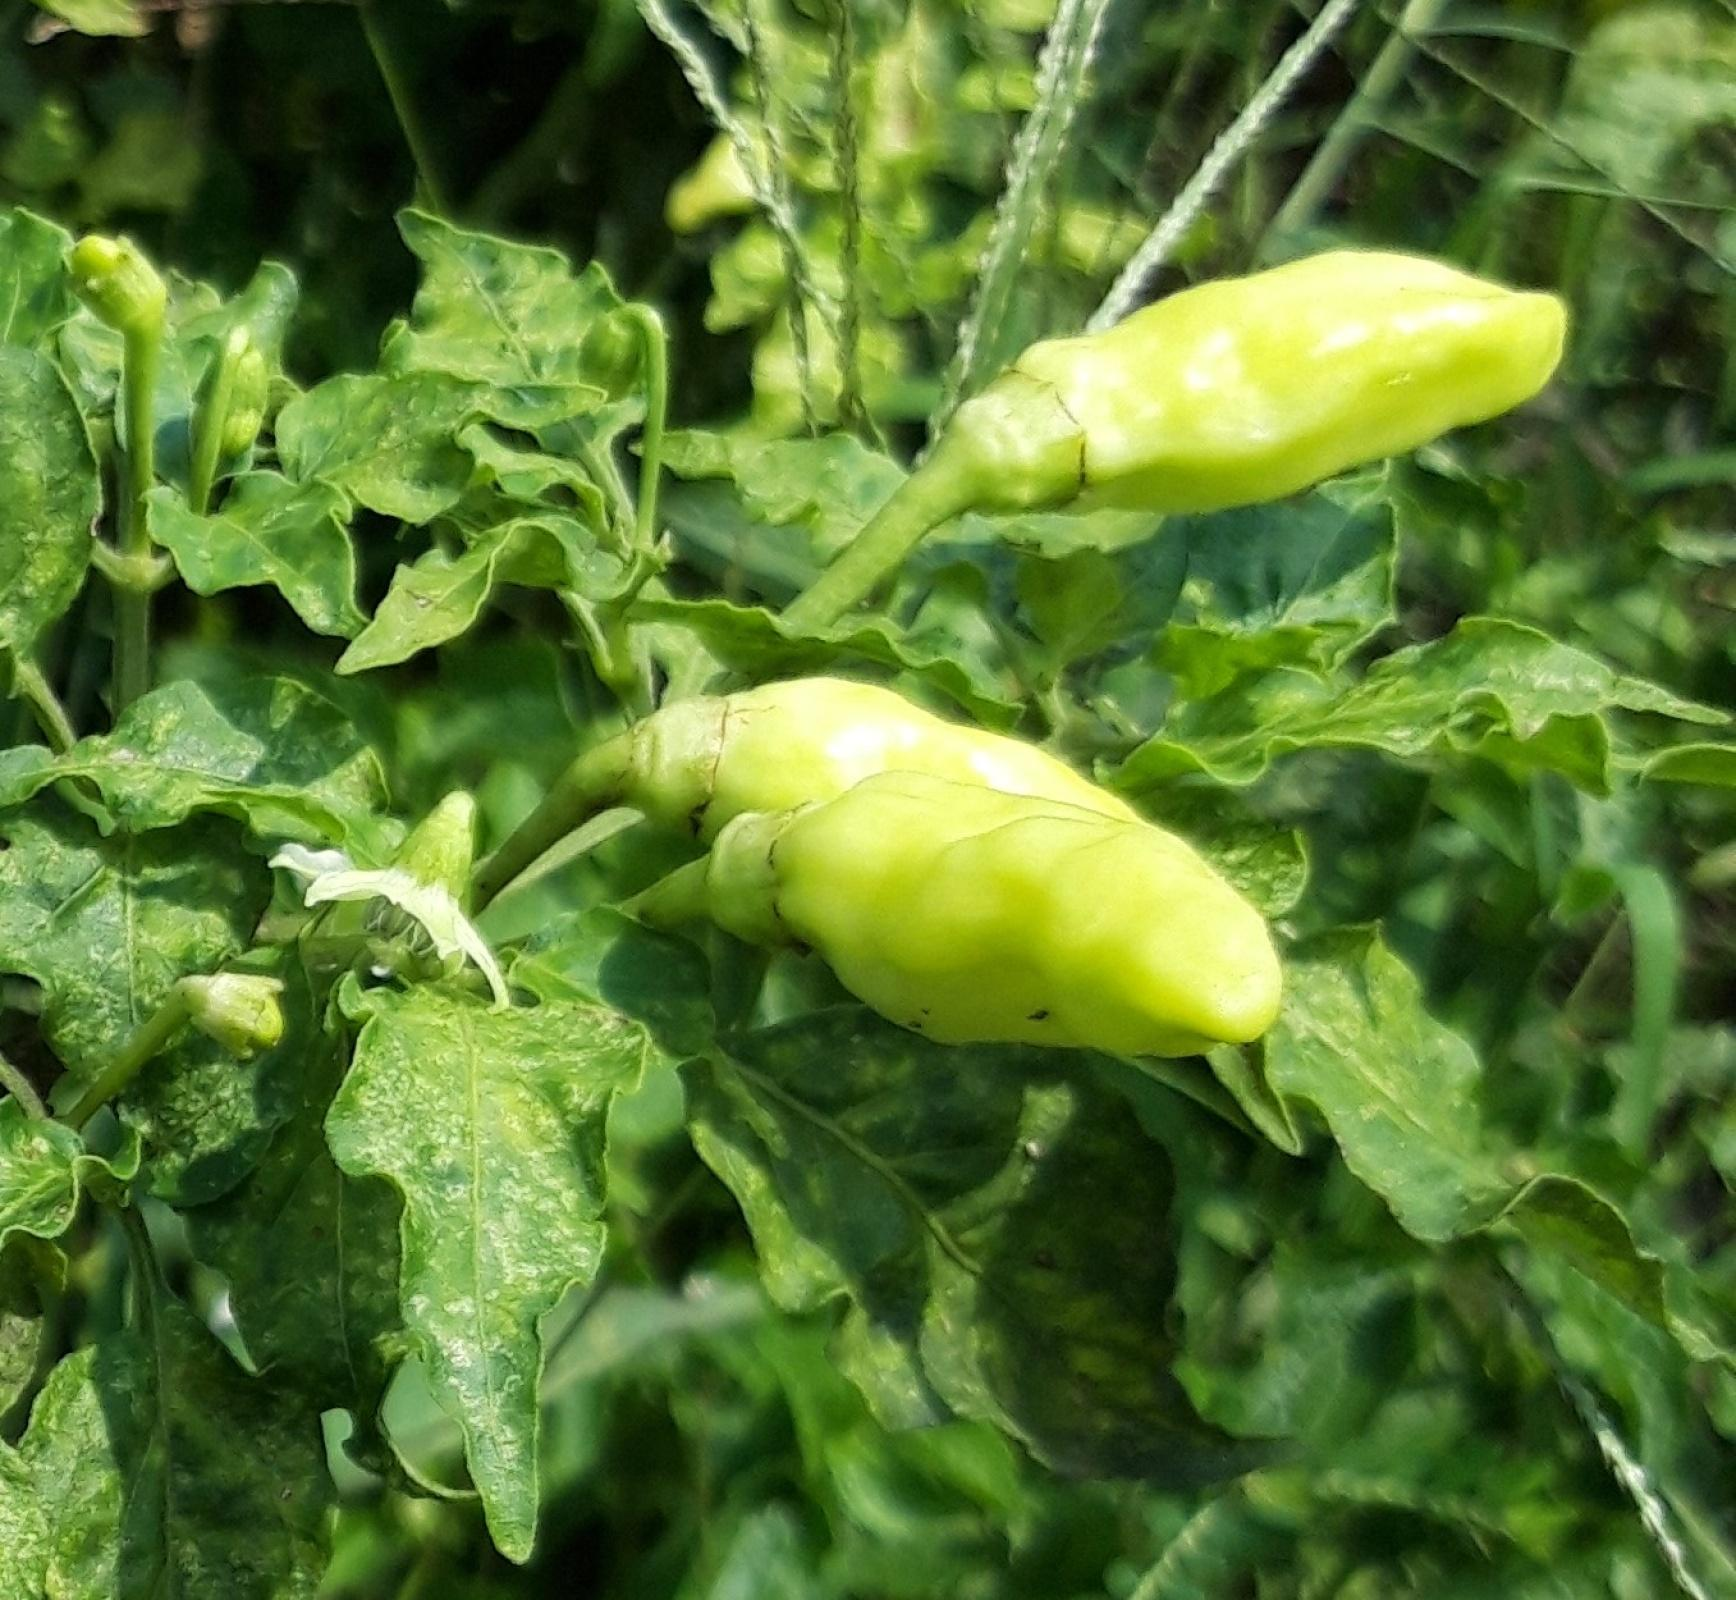cabai_normal: (741, 768, 1282, 1062), (983, 242, 1564, 513), (706, 673, 1183, 879)
